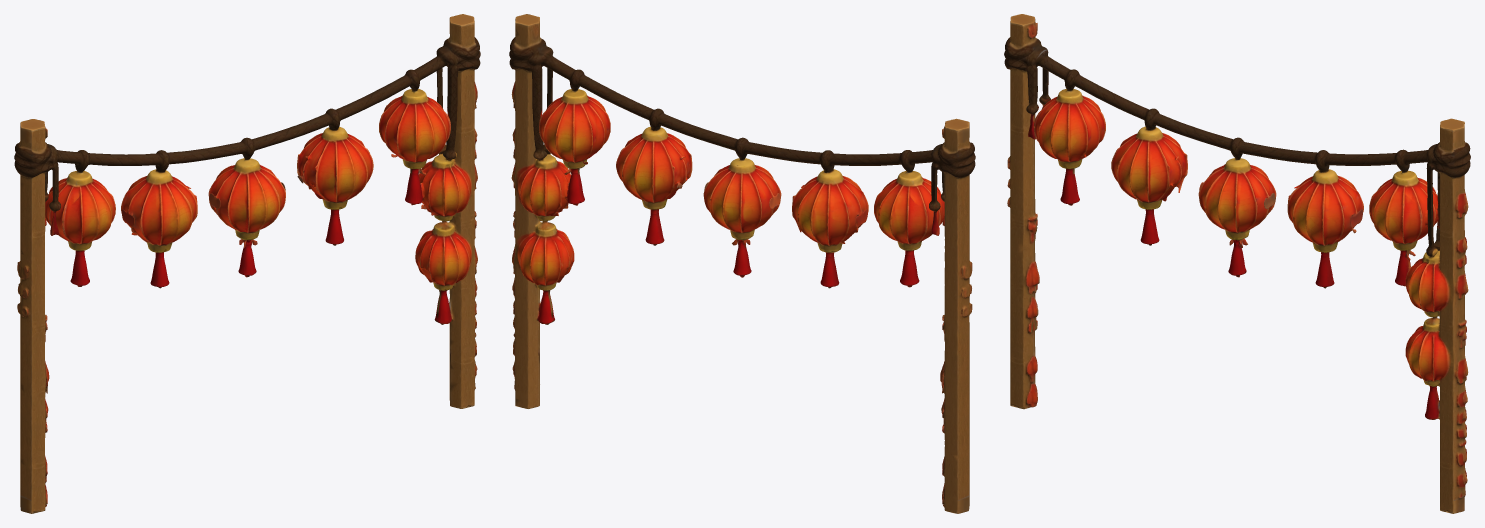
The model's file is Meshy_AI_Bamboo_Lantern_Festiv_1028153924_texture.glb.
3 renders of one model, left to right at view 1: azimuth 30°, elevation 25°; view 2: azimuth 150°, elevation 25°; view 3: azimuth 330°, elevation 25°, orthographic.
Bounding box in the file's own units: 1.9 × 1.51 × 0.2805.
1 material, 1 textured.
